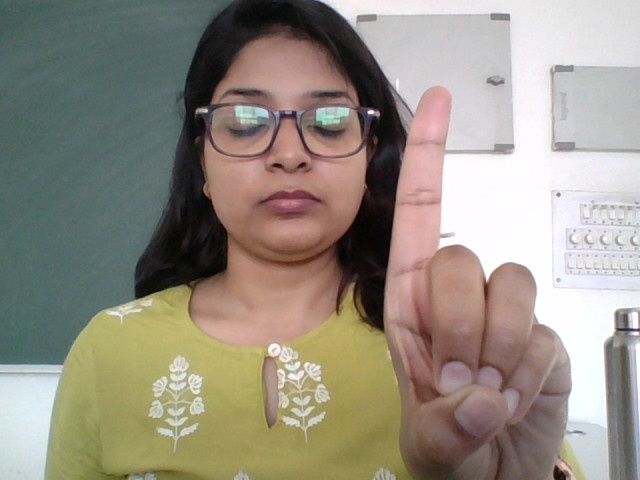D: (391, 83, 579, 480)
